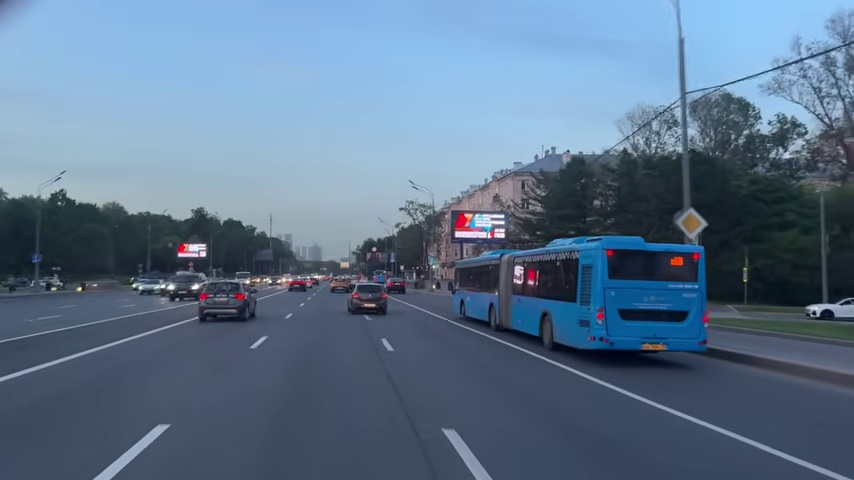apagada: (135, 422, 171, 454), (48, 168, 69, 196), (50, 168, 69, 184), (406, 177, 421, 191)
